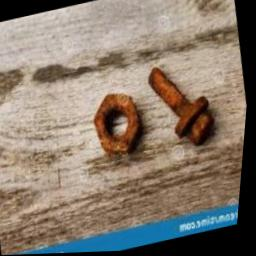Corroded-Bolt: (150, 68, 217, 147)
Corroded-Nut: (96, 93, 144, 155)
